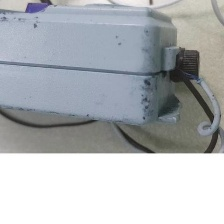three_eye_plug: (0, 0, 209, 134)
